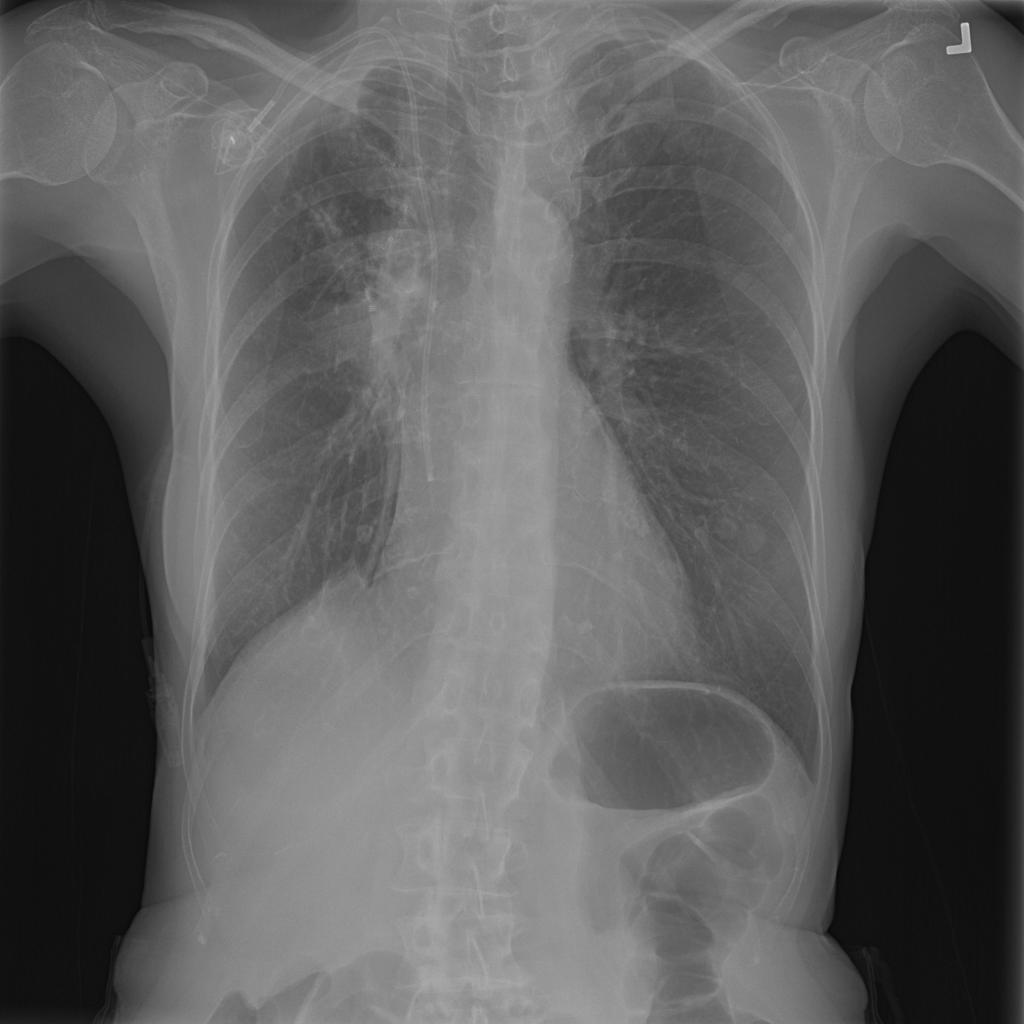nodule: (727, 510, 776, 563)
